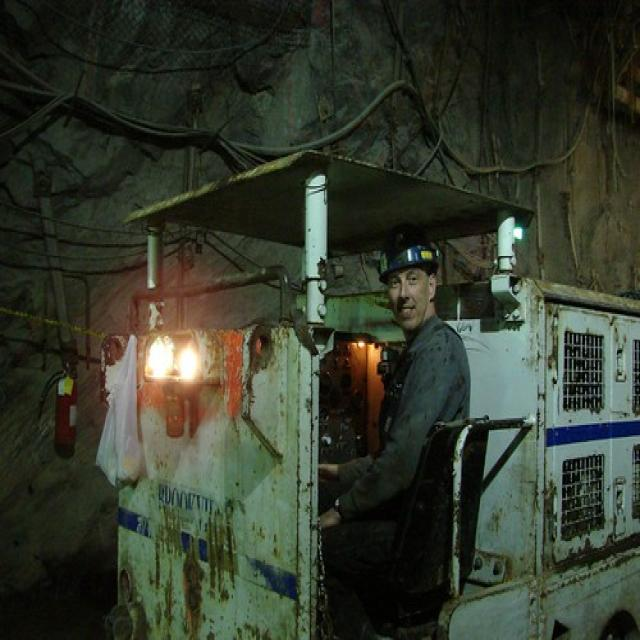Safety-Helmet: (368, 224, 451, 286)
